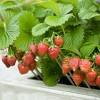ripe: (47, 45, 61, 61), (80, 55, 91, 74), (72, 69, 83, 88), (62, 57, 72, 75), (36, 42, 47, 56), (86, 69, 95, 85), (2, 54, 11, 70), (21, 52, 32, 65), (17, 60, 28, 73), (70, 56, 79, 70), (7, 52, 15, 65), (54, 36, 63, 47), (28, 42, 36, 53), (94, 52, 99, 64)
